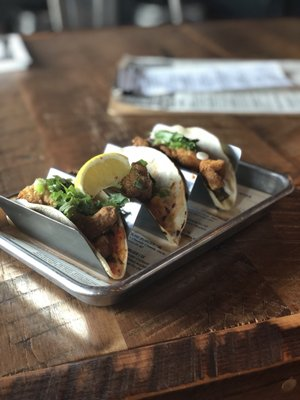curry: (0, 106, 300, 400)
